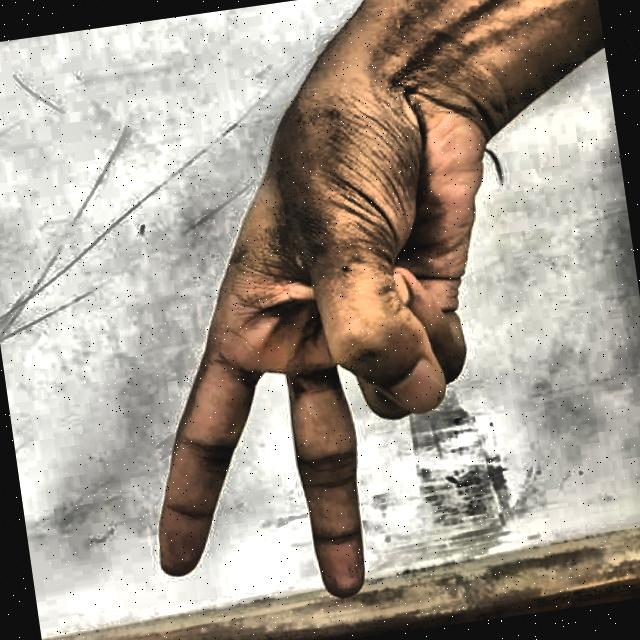Pa: (74, 36, 569, 639)
